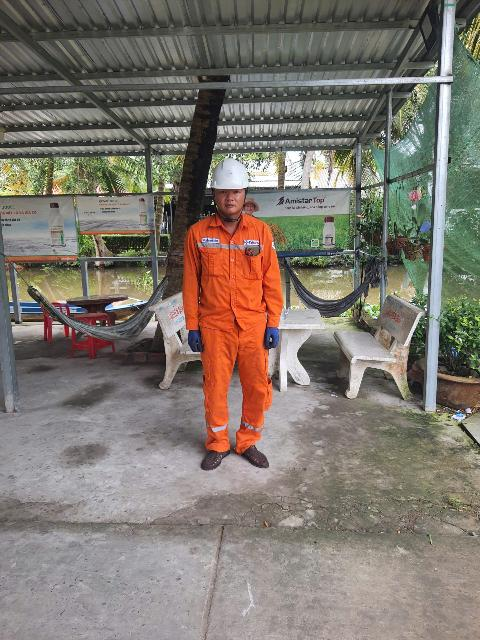gloves: (176, 325, 212, 363), (261, 321, 286, 356)
helmet: (204, 156, 255, 196)
shoes: (237, 438, 272, 470), (201, 435, 232, 471)
